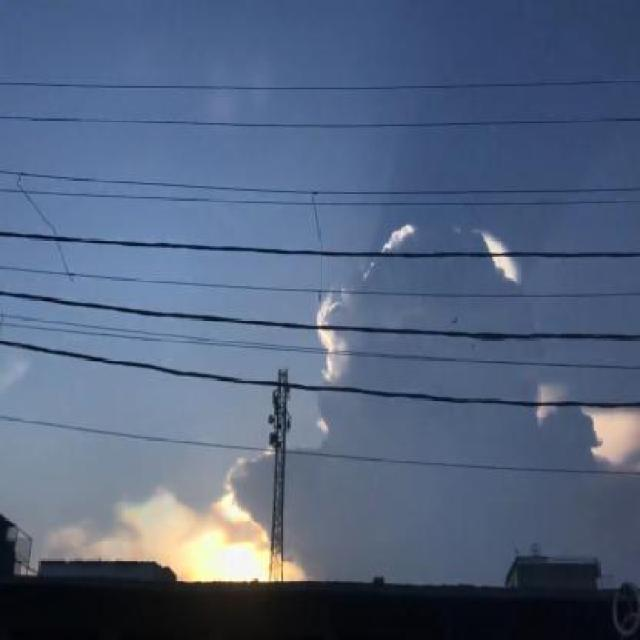bird: (452, 312, 461, 325)
